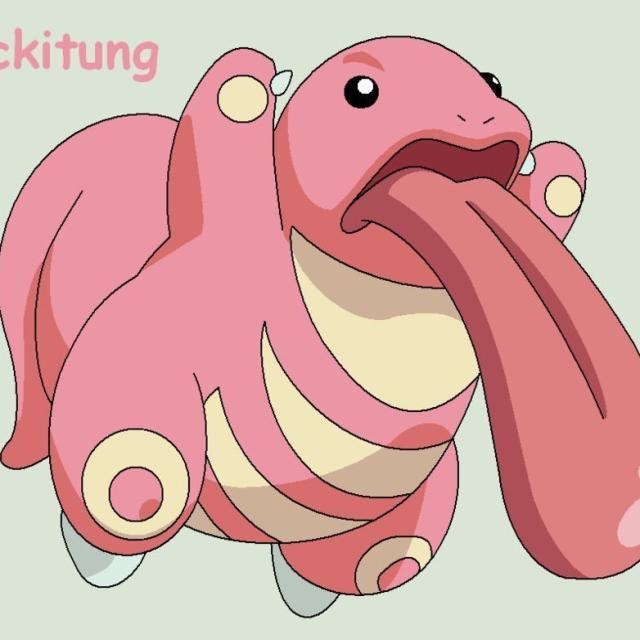Lickitung: (53, 45, 614, 591)
